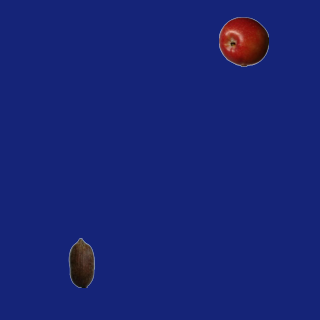Apple Braeburn: (218, 16, 268, 66)
Nut Pecan: (56, 237, 106, 287)
